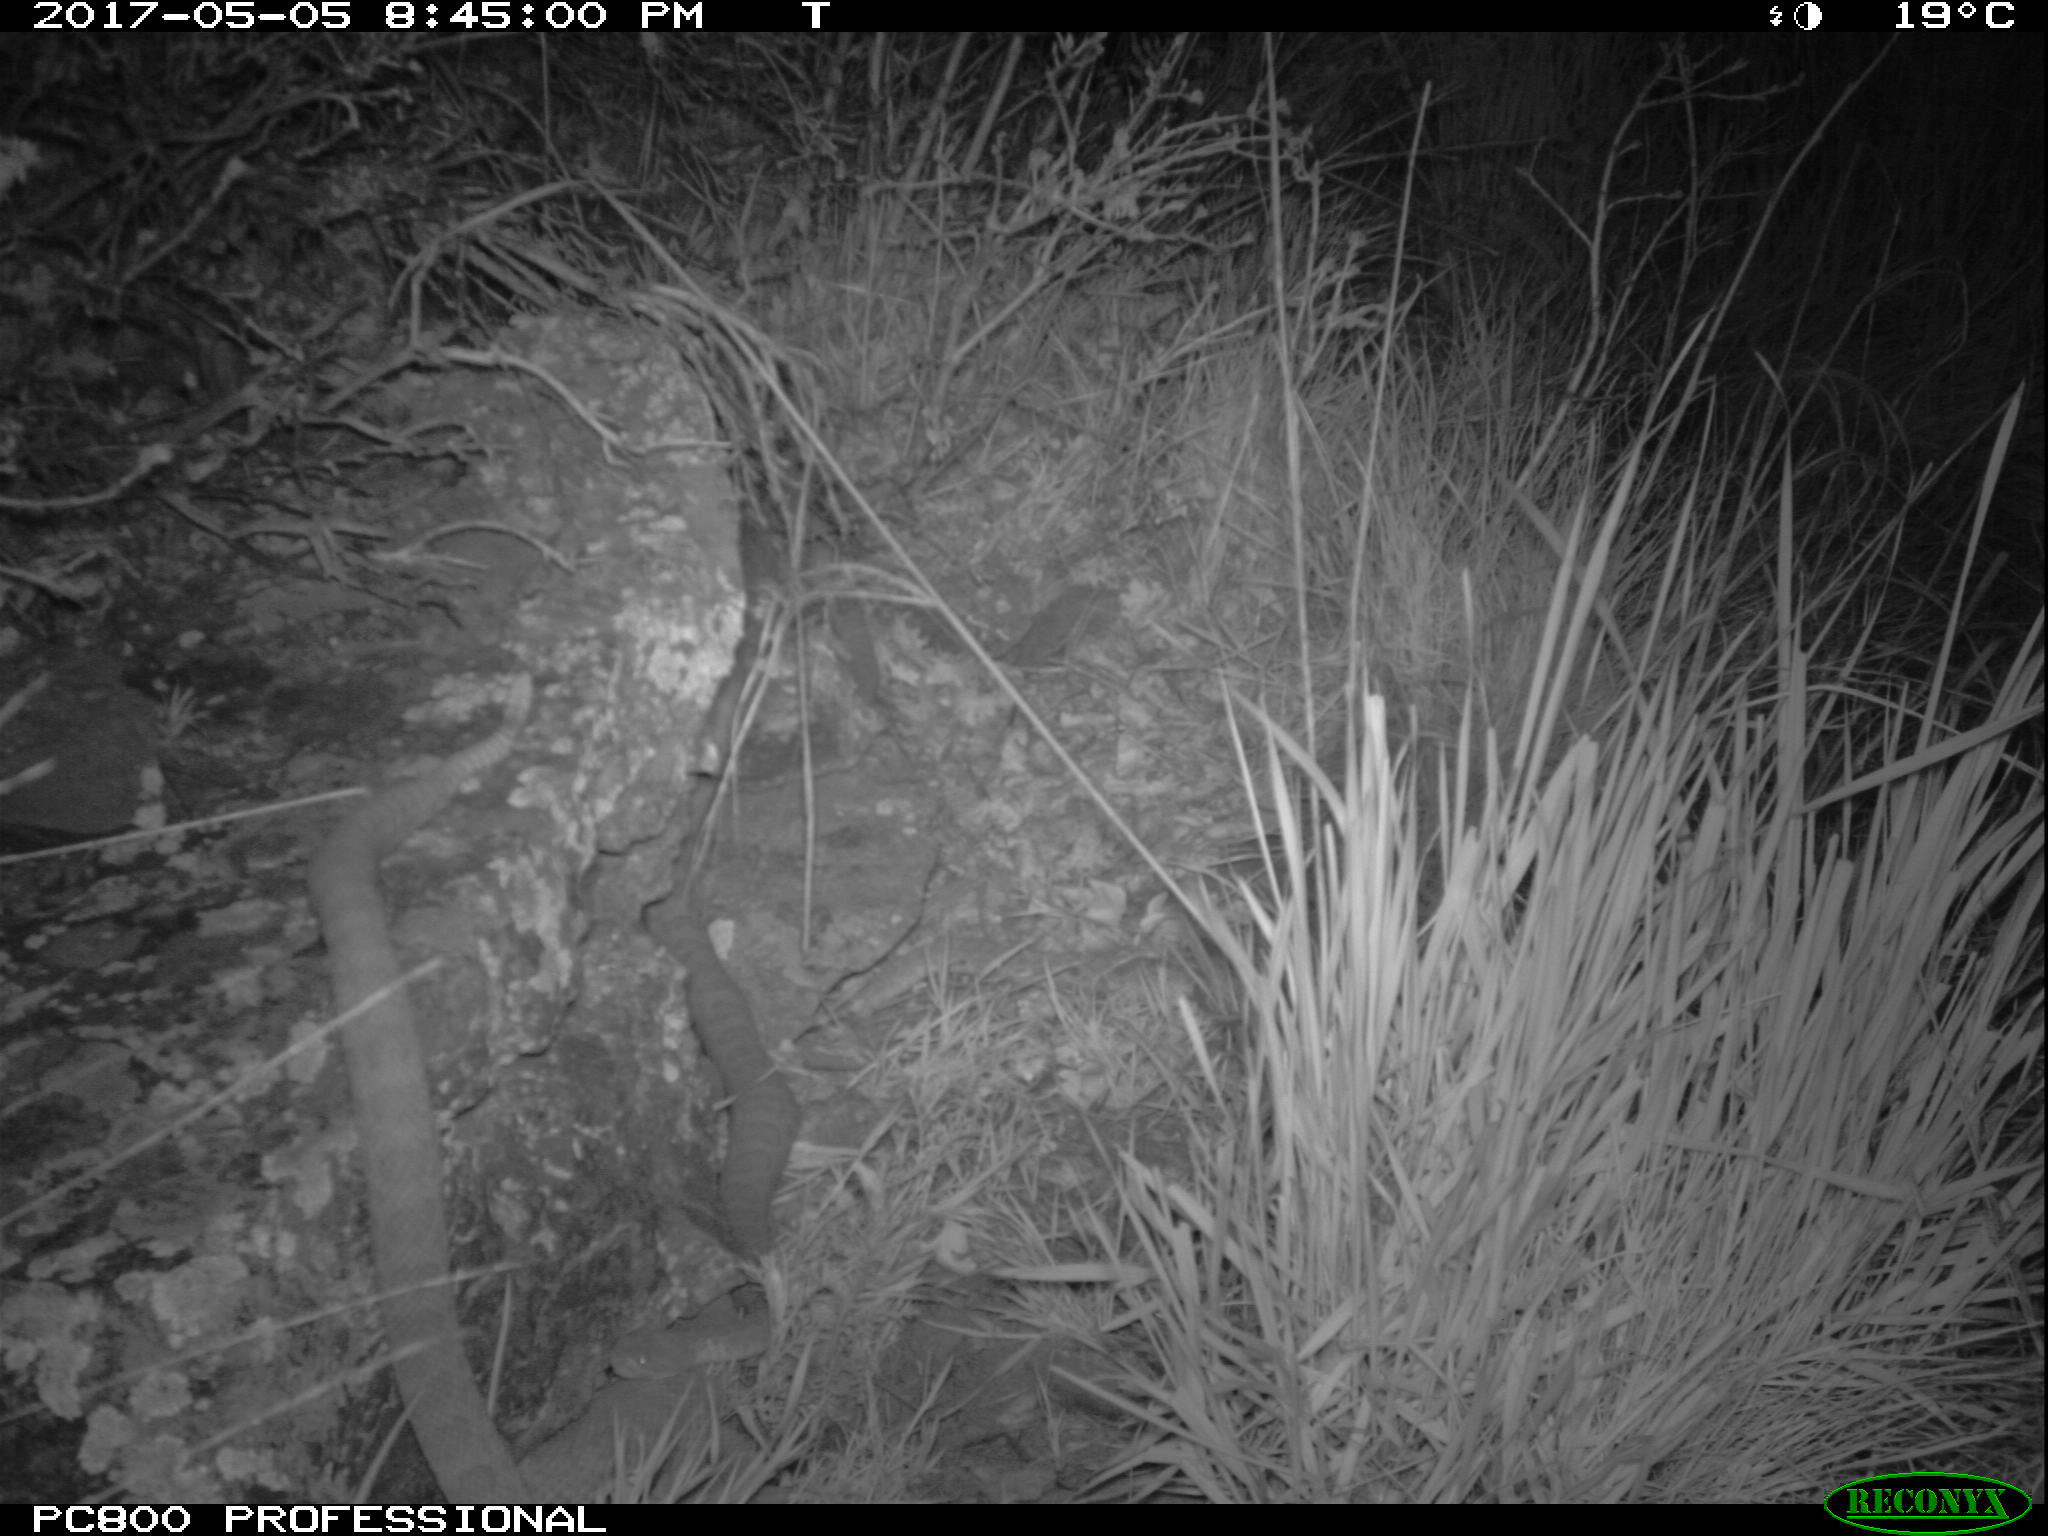snake: (331, 671, 552, 1509), (685, 913, 805, 1244), (613, 1292, 792, 1391)
